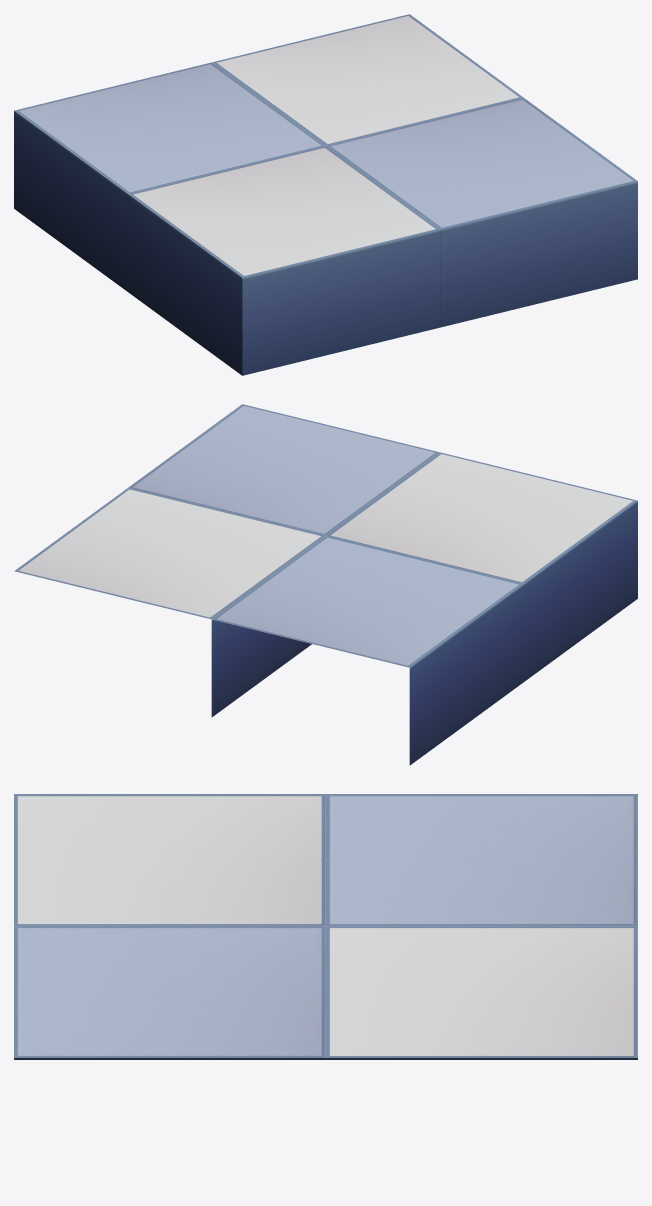
File: my_gamecenter_01_p_tile_2x2.glb
The picture shows the model from 3 angles, top to bottom: view 1: azimuth 30°, elevation 25°; view 2: azimuth 150°, elevation 25°; view 3: azimuth 270°, elevation 25°; orthographic projection. The views are drawn at different scales.
Parts seen in each view (by area): view 1: my_gamecenter_01_p_tile_01 (1), my_gamecenter_01_p_tile_02 (1), my_gamecenter_01_p_tile_02, my_gamecenter_01_p_tile_01; view 2: my_gamecenter_01_p_tile_01 (1), my_gamecenter_01_p_tile_02, my_gamecenter_01_p_tile_01, my_gamecenter_01_p_tile_02 (1); view 3: my_gamecenter_01_p_tile_01, my_gamecenter_01_p_tile_02 (1), my_gamecenter_01_p_tile_01 (1), my_gamecenter_01_p_tile_02.
Part boxes in pixels (bbox=[...]): my_gamecenter_01_p_tile_01 (1): bbox=[128, 146, 440, 375]; my_gamecenter_01_p_tile_02 (1): bbox=[326, 97, 637, 327]; my_gamecenter_01_p_tile_02: bbox=[14, 62, 325, 291]; my_gamecenter_01_p_tile_01: bbox=[212, 14, 523, 145]; my_gamecenter_01_p_tile_01 (1): bbox=[326, 452, 637, 681]; my_gamecenter_01_p_tile_02: bbox=[212, 536, 523, 765]; my_gamecenter_01_p_tile_01: bbox=[14, 487, 325, 717]; my_gamecenter_01_p_tile_02 (1): bbox=[128, 404, 439, 535]; my_gamecenter_01_p_tile_01: bbox=[326, 926, 637, 1059]; my_gamecenter_01_p_tile_02 (1): bbox=[14, 926, 325, 1059]; my_gamecenter_01_p_tile_01 (1): bbox=[14, 794, 325, 925]; my_gamecenter_01_p_tile_02: bbox=[326, 794, 637, 925].
Size of the model in its own units: 0.012 by 0.00284 by 0.012.
2 materials, 2 textured.
